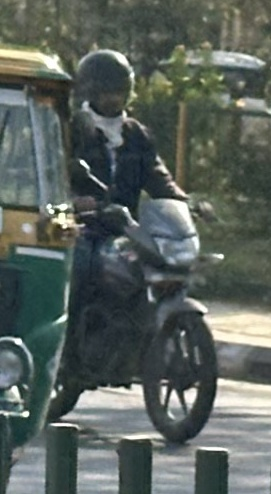BikeWithRider: (36, 40, 231, 449)
Helmet: (68, 42, 142, 122)
